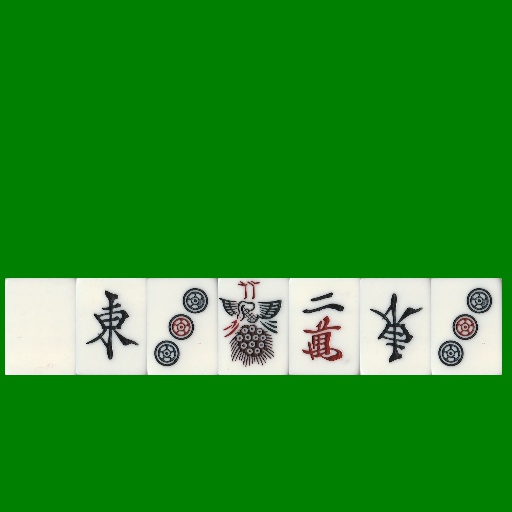1s: (218, 278, 289, 375)
2m: (289, 278, 360, 375)
3p: (147, 278, 218, 375), (431, 278, 502, 375)
east: (76, 278, 147, 375), (360, 278, 431, 375)
white: (5, 278, 76, 375)
